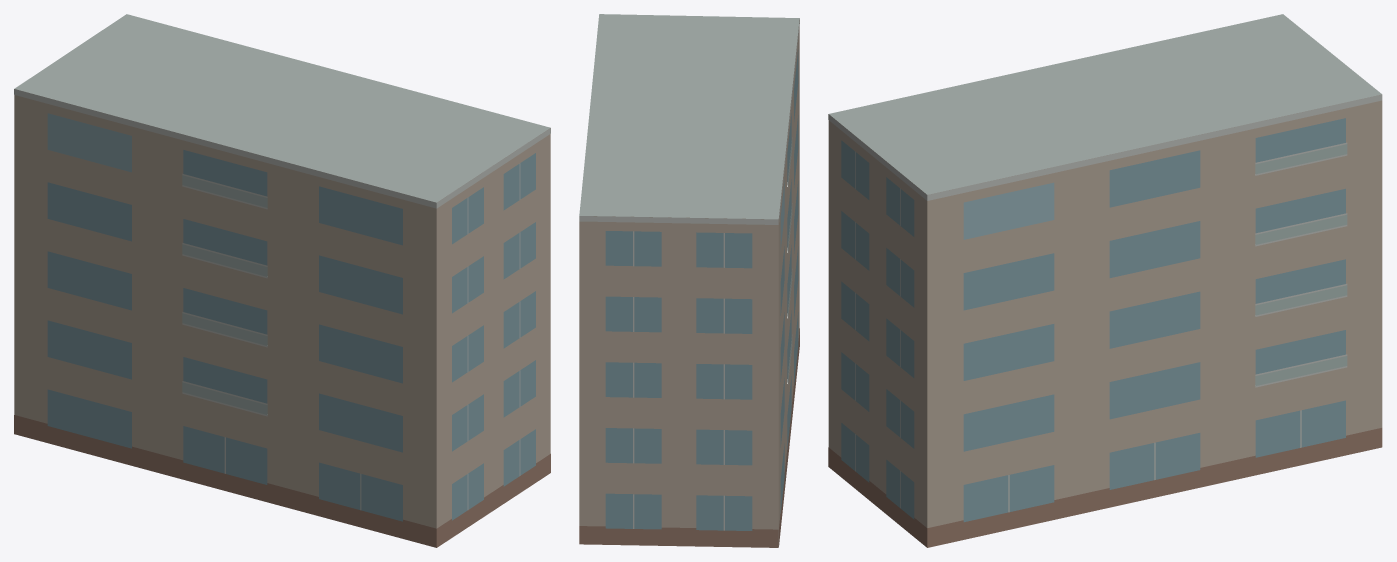
File: survey-upis-32994701.glb
3 views of the same model, side by side, from view 1: azimuth 30°, elevation 25°; view 2: azimuth 150°, elevation 25°; view 3: azimuth 270°, elevation 25° (orthographic). The views are drawn at different scales.
Visible parts, largest first — view 1: survey-upis-32994701.tmp; view 2: survey-upis-32994701.tmp; view 3: survey-upis-32994701.tmp.
Part boxes in pixels (x1,y1,x2,y2): survey-upis-32994701.tmp: (14, 14, 550, 547); survey-upis-32994701.tmp: (579, 14, 799, 547); survey-upis-32994701.tmp: (828, 14, 1382, 547).
Bounding box in the file's own units: 15.51 × 14.1 × 20.06.
